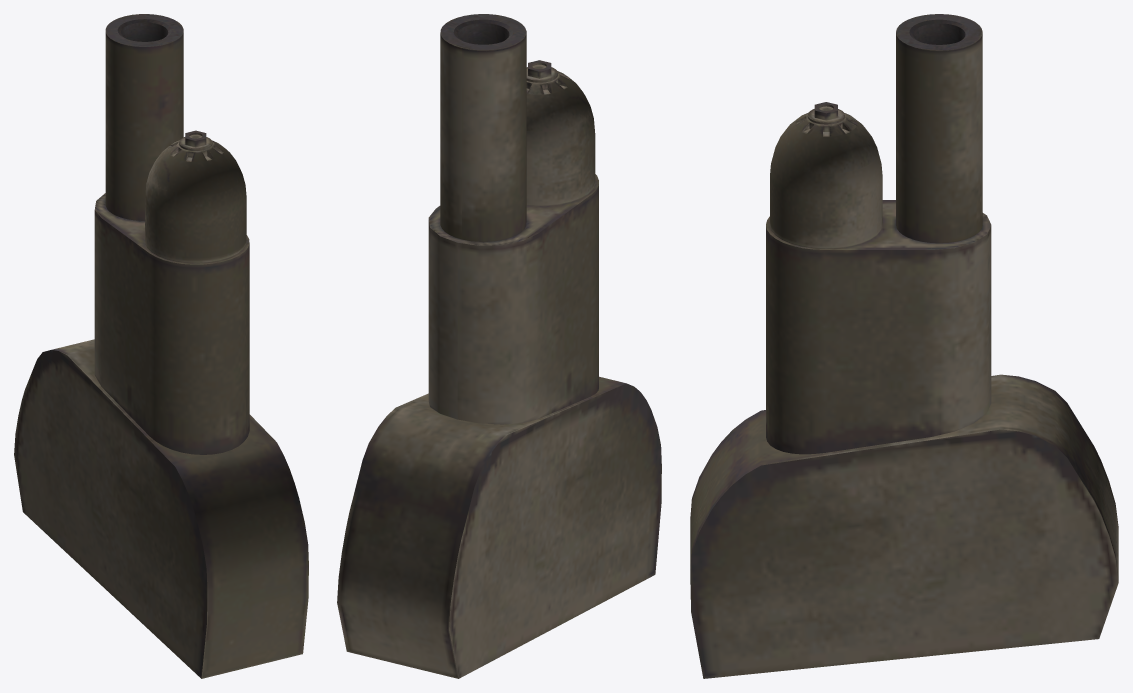
The model's file is Gun_03.glb.
3 renders of one model, left to right at view 1: azimuth 30°, elevation 25°; view 2: azimuth 150°, elevation 25°; view 3: azimuth 270°, elevation 25°, orthographic. The views are drawn at different scales.
Parts seen in each view (by area): view 1: set_0_group_0; view 2: set_0_group_0; view 3: set_0_group_0.
Part boxes in pixels (box(x1,y1,x2,y2)): set_0_group_0: box(14, 14, 308, 678); set_0_group_0: box(337, 14, 661, 678); set_0_group_0: box(690, 14, 1118, 678).
Size of the model in its own units: 0.1165 by 0.6119 by 0.384.
Materials: 1 (1 with a texture image).
